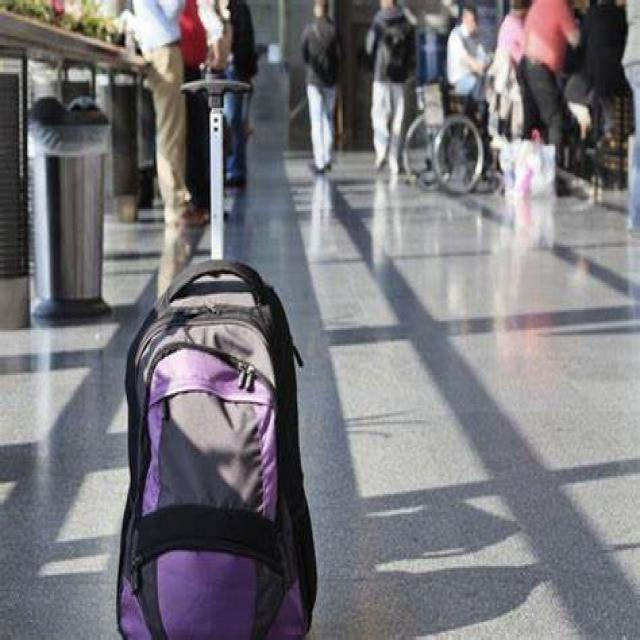Backpacks: (116, 254, 320, 640)
